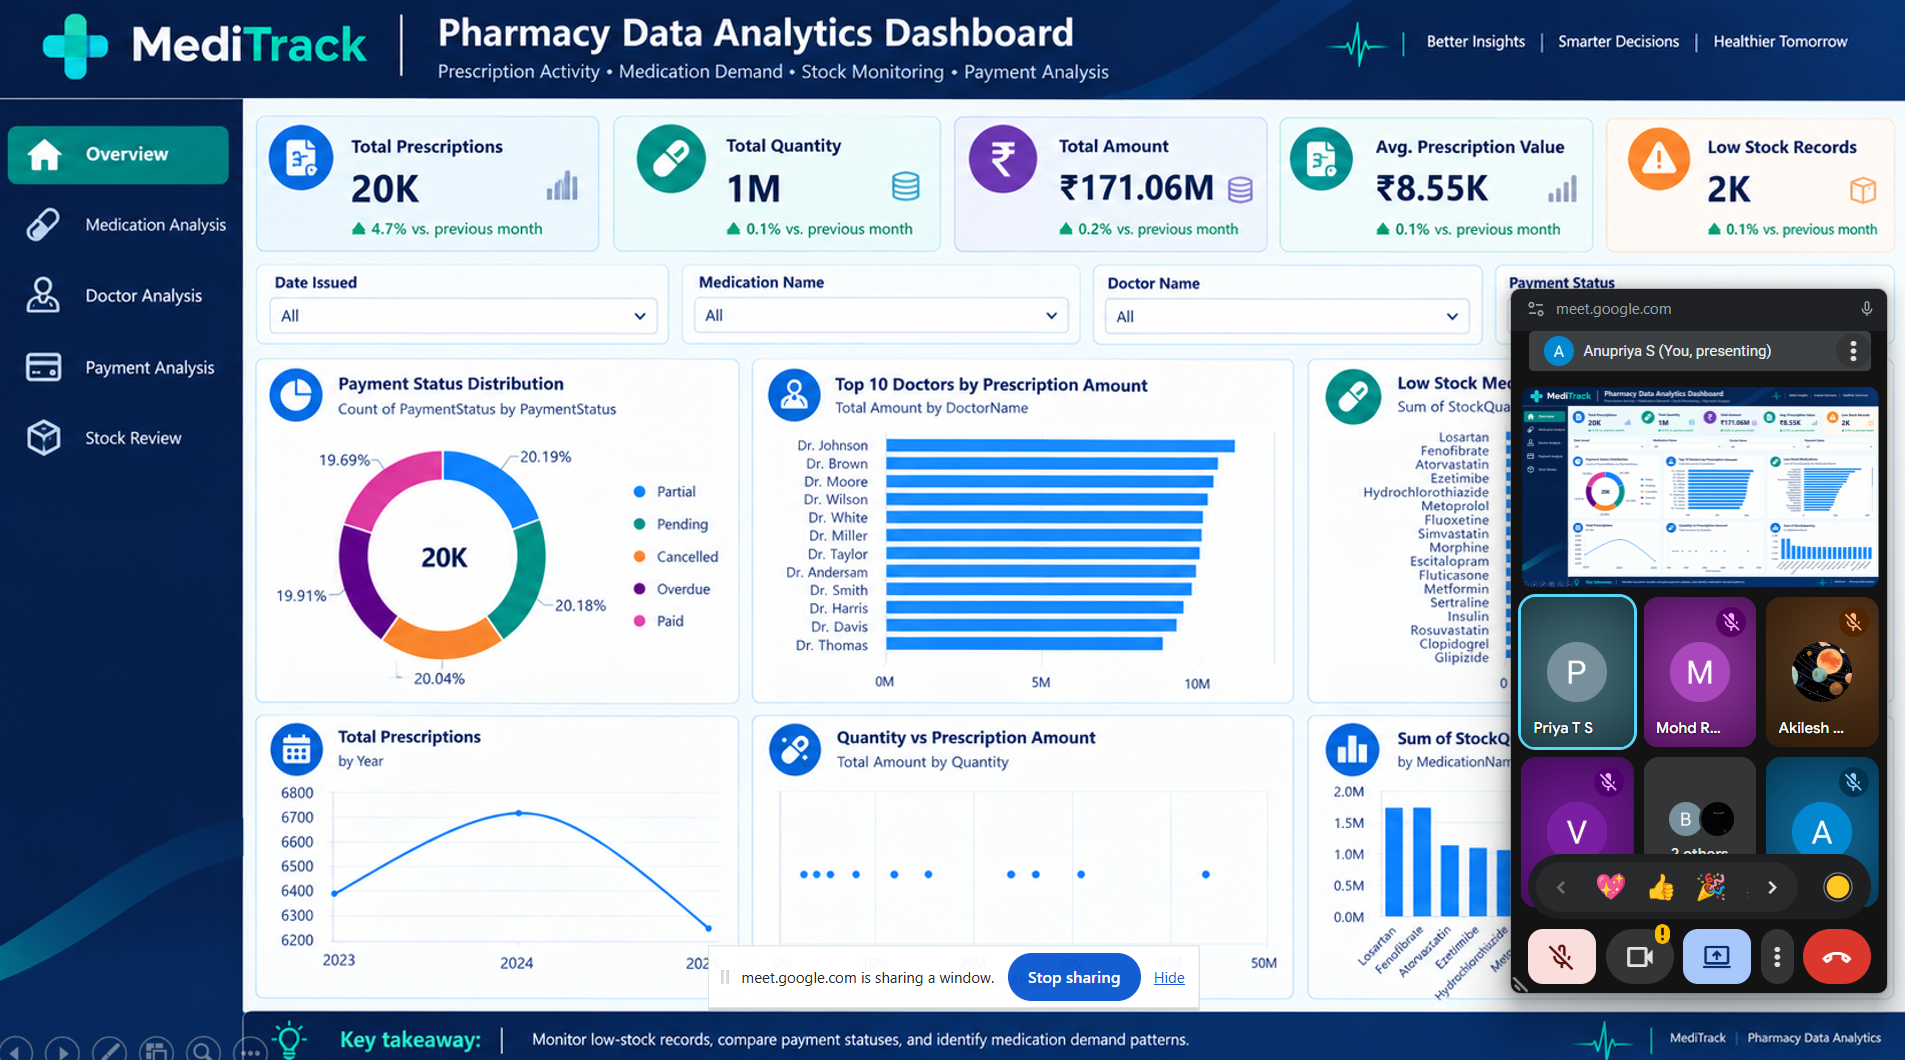

Layout of this report page (visuals, bound fields, positions):
{"tool":"powerbi","page":{"name":"Page 2","canvas":[1920,1080],"ordinal":0},"visuals":[{"type":"listSlicer","fields":{"Values":["meditrack_dataset.MedicationName"]},"box":[15,375,228.3,256.7],"z":0},{"type":"listSlicer","fields":{"Values":["meditrack_dataset.DoctorName"]},"box":[278.3,375,215,256.7],"z":1000},{"type":"tableEx","fields":{"Values":["meditrack_dataset.PaymentStatus"]},"box":[528.3,388.3,188.3,220],"z":2000},{"type":"lineChart","fields":{"Category":["meditrack_dataset.DateIssued.Variation.Date Hierarchy.Year","meditrack_dataset.DateIssued.Variation.Date Hierarchy.Quarter","meditrack_dataset.DateIssued.Variation.Date Hierarchy.Month","meditrack_dataset.DateIssued.Variation.Date Hierarchy.Day"],"Y":["meditrack_dataset.Total Prescriptions"]},"box":[833.3,371.7,445,261.7],"z":3000},{"type":"barChart","title":"Top 10 Medications by Prescription Count","fields":{"Category":["meditrack_dataset.MedicationName"],"Y":["meditrack_dataset.Total Prescriptions"]},"box":[28.3,703.3,375,281.7],"z":4000},{"type":"barChart","title":"Top 10 Doctors by Prescription Amount","fields":{"Category":["meditrack_dataset.DoctorName"],"Y":["meditrack_dataset.Total Amount"]},"box":[1435,13.3,395,270],"z":4001},{"type":"donutChart","fields":{"Category":["meditrack_dataset.PaymentStatus"],"Y":["meditrack_dataset.Total Prescriptions"]},"box":[1400,303.3,466.7,305],"z":4002},{"type":"columnChart","fields":{"Category":["meditrack_dataset.PaymentStatus"],"Y":["meditrack_dataset.Total Amount"]},"box":[888.3,660,461.7,280],"z":4003},{"type":"barChart","title":"Low Stock Medications","fields":{"Category":["meditrack_dataset.MedicationName"],"Y":["Sum(meditrack_dataset.StockQuantity)"]},"box":[1396.7,631.7,473.3,331.7],"z":4004},{"type":"clusteredColumnChart","fields":{"Category":["meditrack_dataset.MedicationName"],"Y":["Sum(meditrack_dataset.StockQuantity)"]},"box":[436.7,673.3,396.7,375],"z":4006},{"type":"cardVisual","fields":{"Data":["meditrack_dataset.Total Prescriptions"]},"box":[38.3,133.3,183.3,170],"z":4007},{"type":"cardVisual","fields":{"Data":["meditrack_dataset.Total Amount"]},"box":[293.3,133.3,200,196.7],"z":4008},{"type":"cardVisual","fields":{"Data":["meditrack_dataset.Total Quantity"]},"box":[530,130,210,205],"z":4009},{"type":"cardVisual","fields":{"Data":["meditrack_dataset.Average Prescription Value"]},"box":[770,141.7,286.7,193.3],"z":4010},{"type":"cardVisual","title":"Low-Stock Medication Records","fields":{"Data":["meditrack_dataset.Low Stock Count"]},"box":[1083.3,135,300,206.7],"z":4011},{"type":"textbox","box":[386.7,13.3,780,86.7],"z":4012},{"type":"textbox","box":[100,100,300,300],"z":4013},{"type":"textbox","box":[100,100,300,300],"z":4014}]}

Visuals, with their boxes on the page's 1920x1080 design canvas (x1, y1, x2, y2). These are canvas units, not pixel positions in the 1905x1060 screenshot, which may show the page scaled, cropped or inside an application window:
listSlicer - meditrack_dataset.MedicationName: left=15, top=375, right=243, bottom=632
listSlicer - meditrack_dataset.DoctorName: left=278, top=375, right=493, bottom=632
tableEx - meditrack_dataset.PaymentStatus: left=528, top=388, right=717, bottom=608
lineChart - meditrack_dataset.DateIssued.Variation.Date Hierarchy.Year x meditrack_dataset.DateIssued.Variation.Date Hierarchy.Quarter: left=833, top=372, right=1278, bottom=633
"Top 10 Medications by Prescription Count" barChart: left=28, top=703, right=403, bottom=985
"Top 10 Doctors by Prescription Amount" barChart: left=1435, top=13, right=1830, bottom=283
donutChart - meditrack_dataset.PaymentStatus x meditrack_dataset.Total Prescriptions: left=1400, top=303, right=1867, bottom=608
columnChart - meditrack_dataset.PaymentStatus x meditrack_dataset.Total Amount: left=888, top=660, right=1350, bottom=940
"Low Stock Medications" barChart: left=1397, top=632, right=1870, bottom=963
clusteredColumnChart - meditrack_dataset.MedicationName x Sum(meditrack_dataset.StockQuantity): left=437, top=673, right=833, bottom=1048
cardVisual - meditrack_dataset.Total Prescriptions: left=38, top=133, right=222, bottom=303
cardVisual - meditrack_dataset.Total Amount: left=293, top=133, right=493, bottom=330
cardVisual - meditrack_dataset.Total Quantity: left=530, top=130, right=740, bottom=335
cardVisual - meditrack_dataset.Average Prescription Value: left=770, top=142, right=1057, bottom=335
"Low-Stock Medication Records" cardVisual: left=1083, top=135, right=1383, bottom=342
textbox: left=387, top=13, right=1167, bottom=100
textbox: left=100, top=100, right=400, bottom=400
textbox: left=100, top=100, right=400, bottom=400
